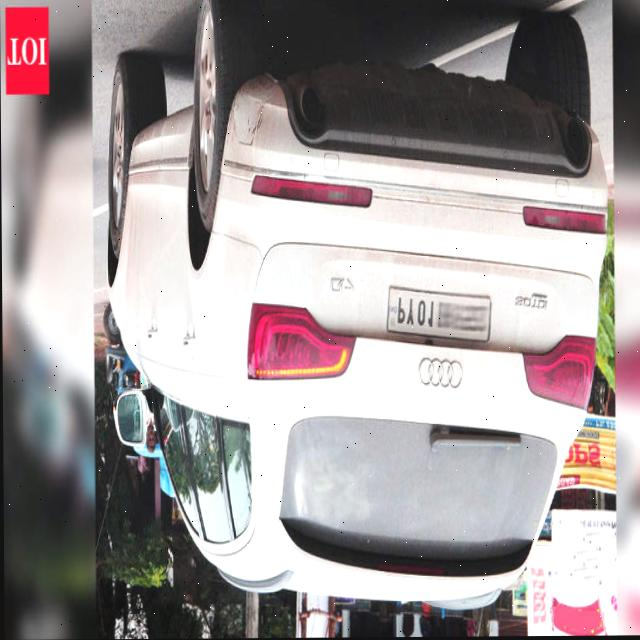plate: (382, 290, 492, 343)
